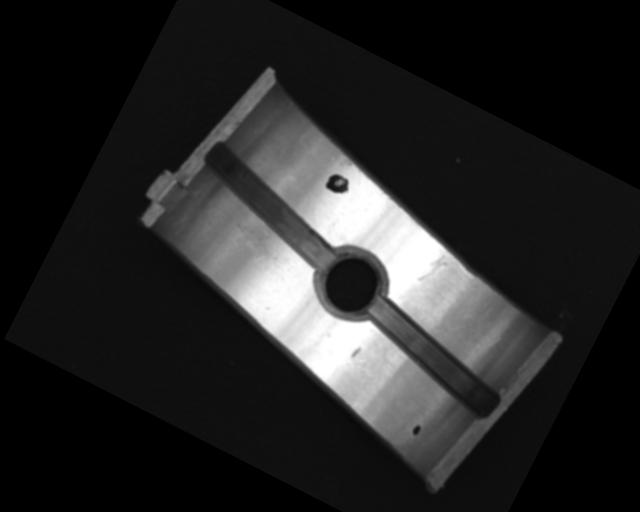blot: (322, 171, 354, 199), (409, 422, 423, 438)
bruise: (350, 344, 362, 360)
gap: (183, 141, 355, 274), (349, 296, 515, 421)
hole: (304, 238, 398, 330)
nick: (416, 244, 453, 290)
scratch: (218, 213, 289, 273)
